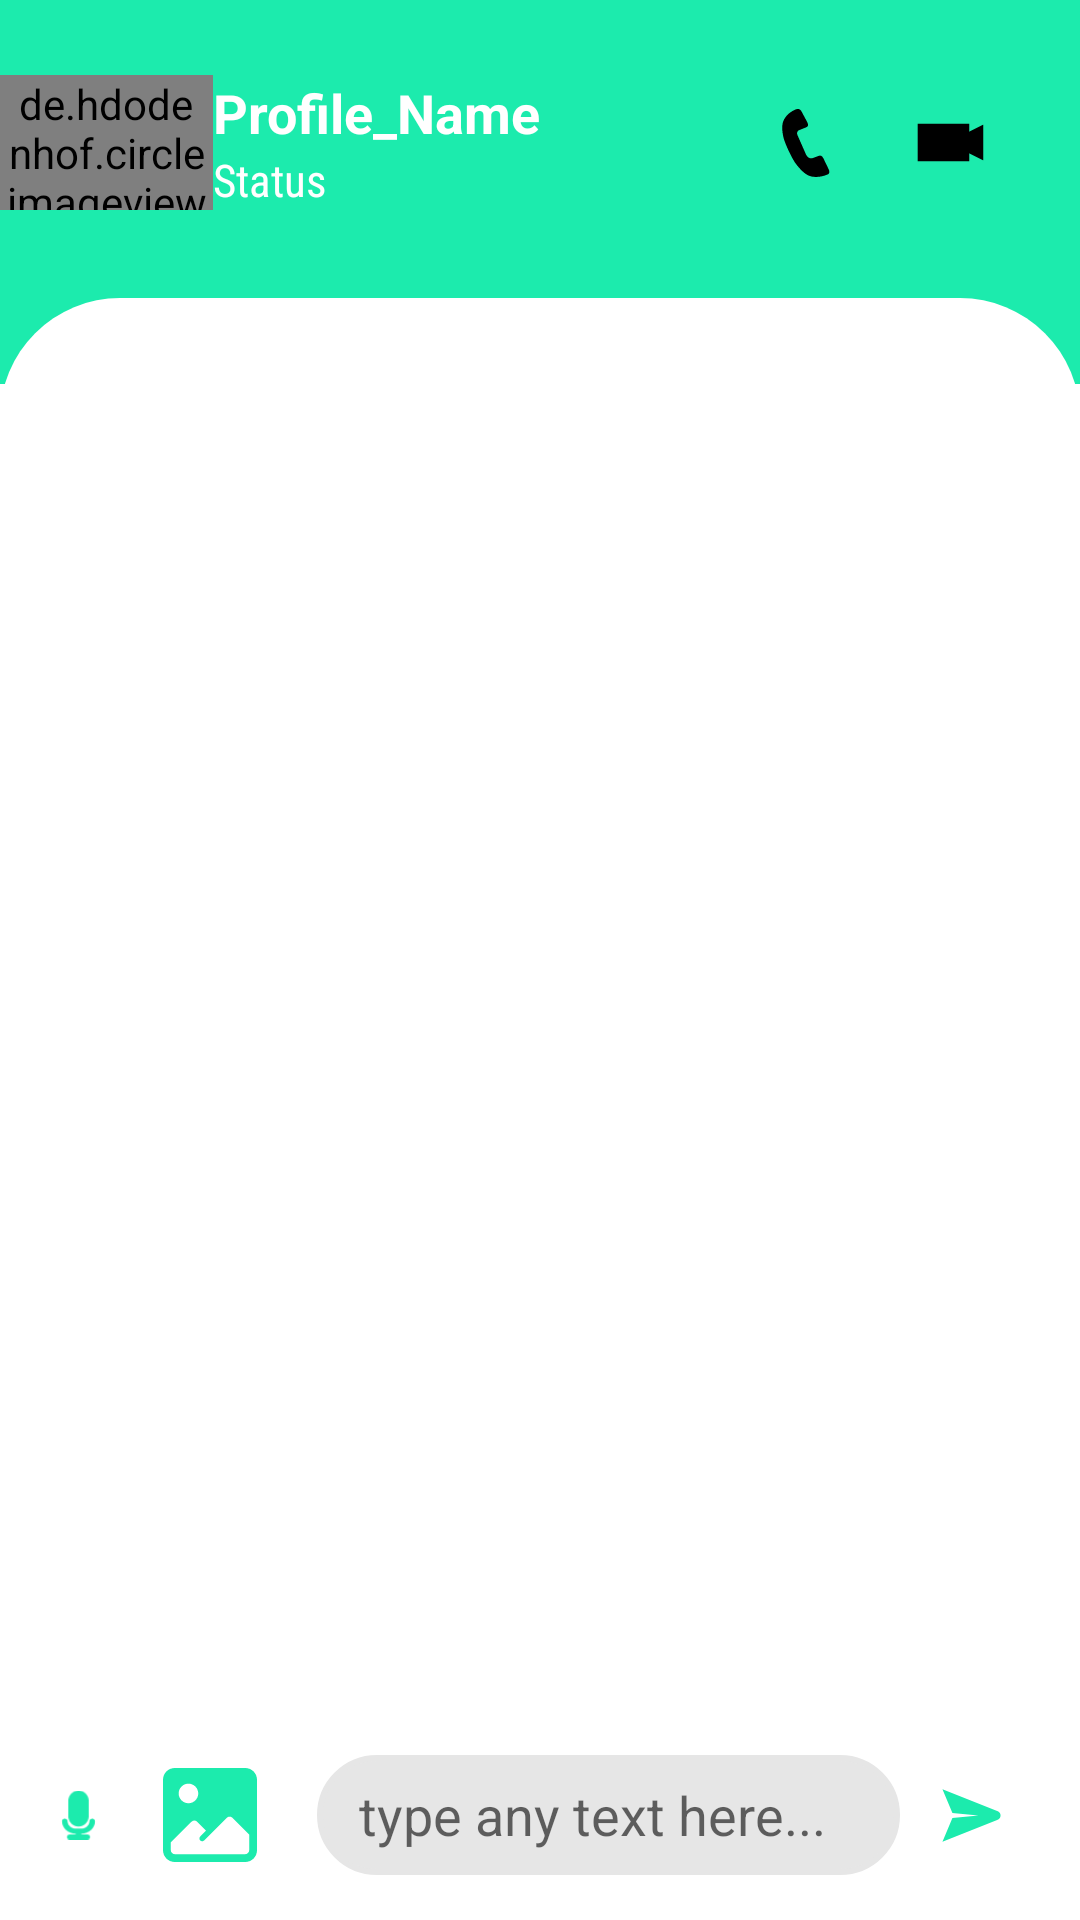

Icon bounding boxes for this 1080px x 1920px phone screenshot, format (x1, y1, x2, y2):
call: (782, 109, 830, 177)
send: (942, 1789, 1001, 1842)
video call: (917, 123, 984, 162)
voice recorder: (62, 1791, 95, 1840)
